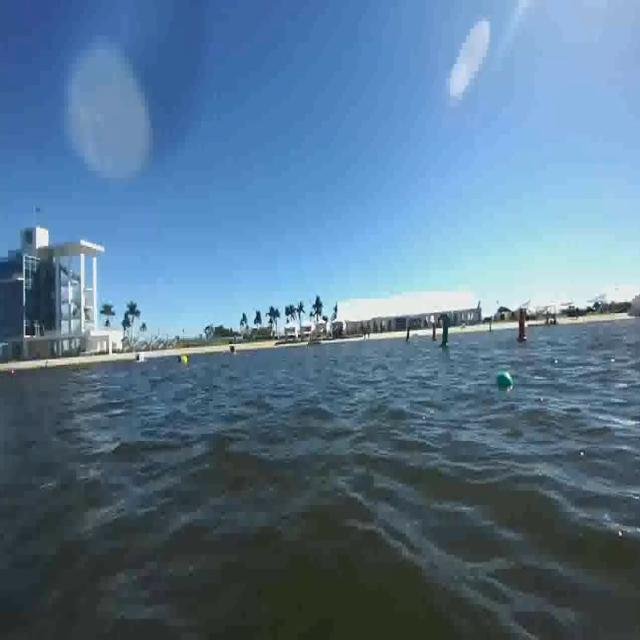green-buoy: (497, 371, 511, 387)
green-column-buoy: (441, 316, 453, 351)
red-column-buoy: (516, 304, 528, 342), (432, 322, 438, 342)
yellow-buoy: (184, 354, 191, 366)
